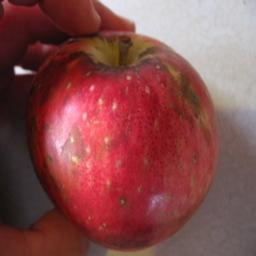apple: (24, 25, 215, 249)
